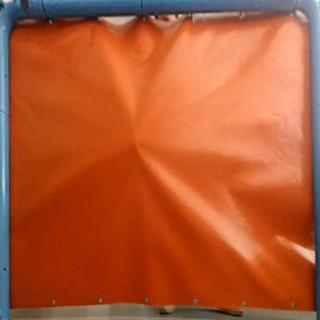Hit-hRxx: (127, 138, 140, 149)
